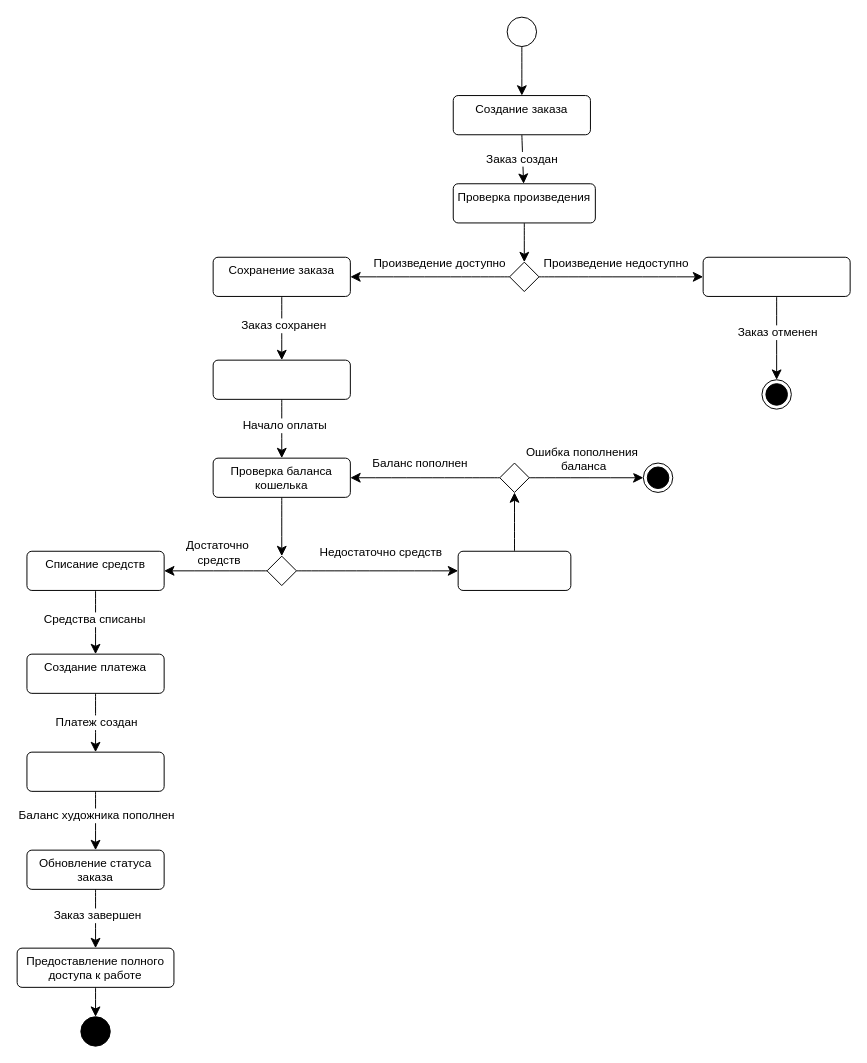
This 867x1063 diagram has some shape labels left out. The box of each missing label's shape, as (x1, y1, x2, y2) in pixels:
Начисление средств художнику: (26, 751, 164, 791)
Ожидание оплаты: (212, 359, 350, 399)
Отмена создания заказа: (702, 256, 850, 296)
Пополнение кошелька: (457, 550, 571, 590)
